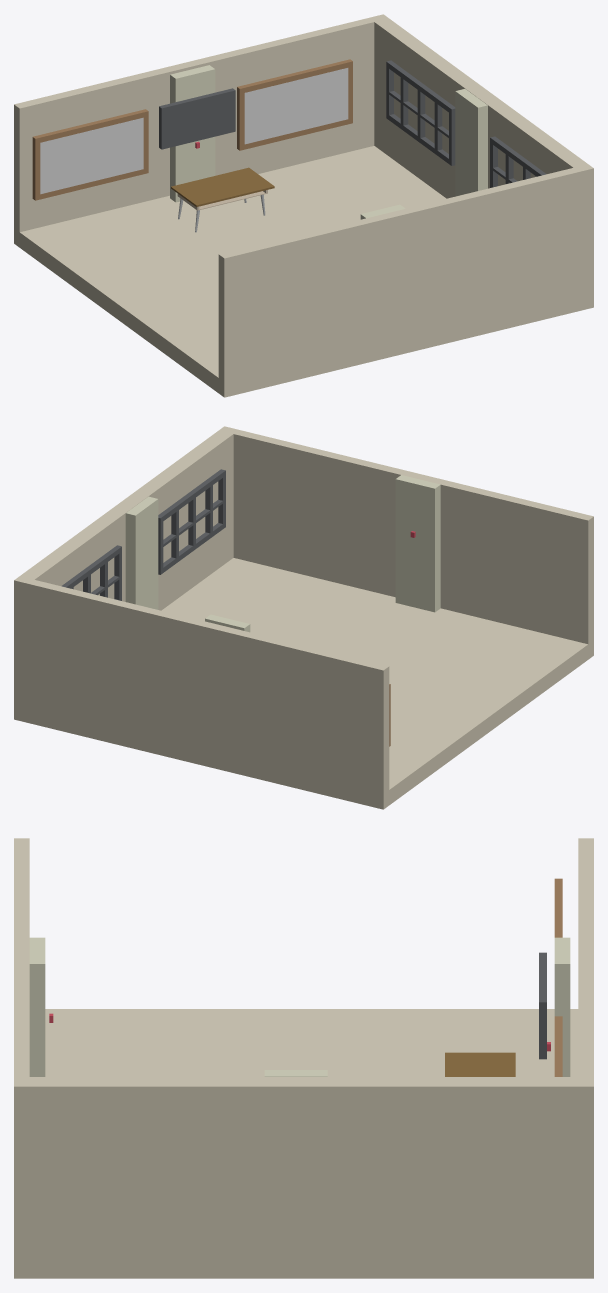
The model's file is classroom_reduceSize.glb.
The picture shows the model from 3 angles, top to bottom: view 1: azimuth 30°, elevation 25°; view 2: azimuth 150°, elevation 25°; view 3: azimuth 270°, elevation 25°; orthographic projection. The views are drawn at different scales.
Parts seen in each view (by area): view 1: Mesh_Mesh_head_geo.001_lambert2SG.001; view 2: Mesh_Mesh_head_geo.001_lambert2SG.001; view 3: Mesh_Mesh_head_geo.001_lambert2SG.001.
Part boxes in pixels (bbox=[...]): Mesh_Mesh_head_geo.001_lambert2SG.001: bbox=[14, 14, 593, 397]; Mesh_Mesh_head_geo.001_lambert2SG.001: bbox=[14, 426, 593, 809]; Mesh_Mesh_head_geo.001_lambert2SG.001: bbox=[14, 838, 593, 1278].
Bounding box in the file's own units: 7.5 × 2.7 × 7.4.
